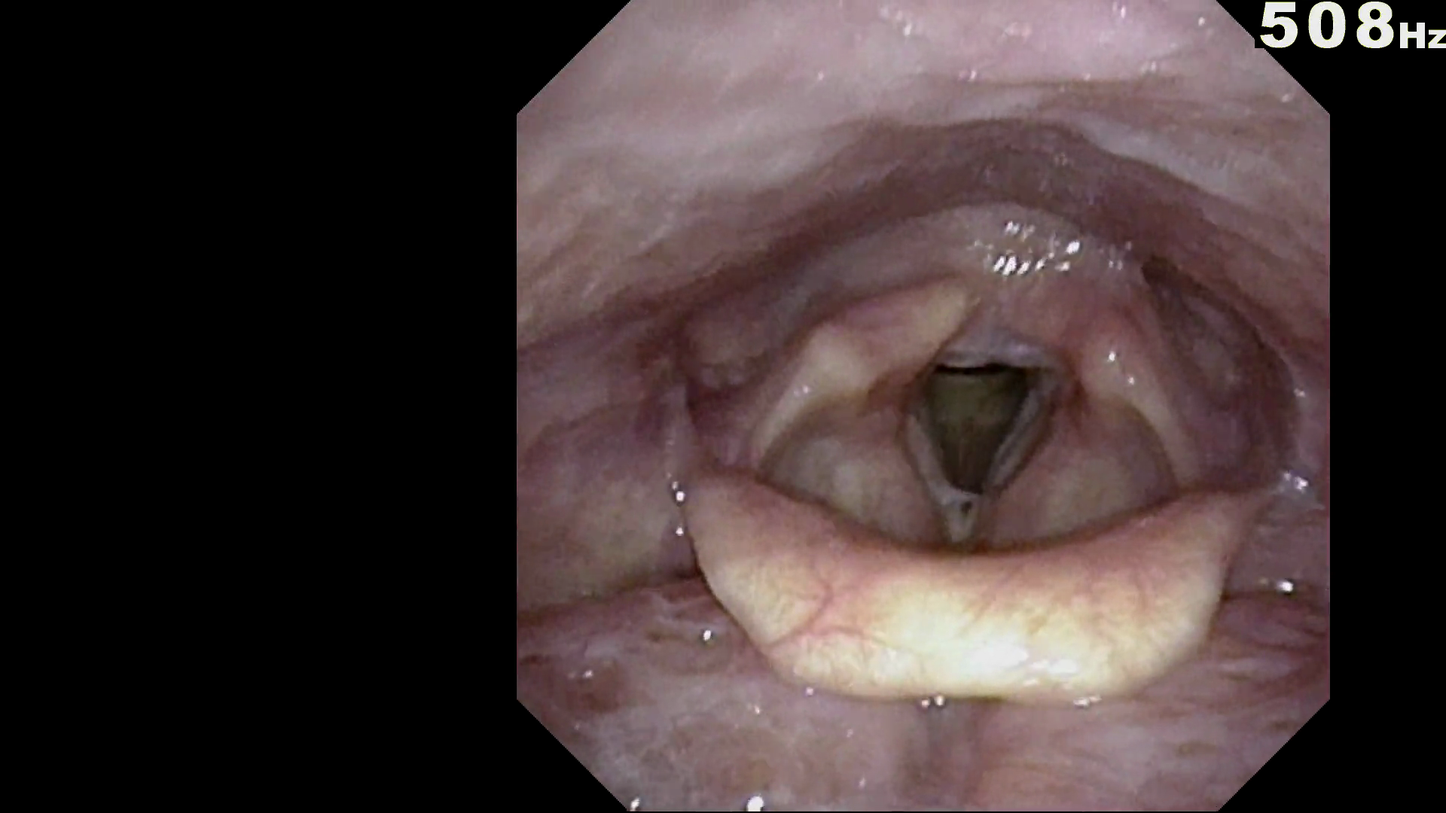epiglottis: (658, 414, 1271, 750)
trachea: (856, 316, 1083, 544)
